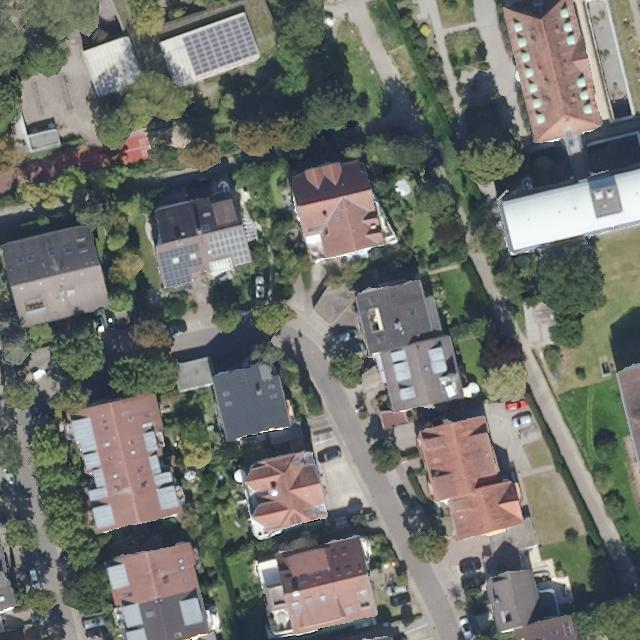PV: (181, 14, 260, 78), (157, 242, 205, 289), (206, 227, 252, 266)
